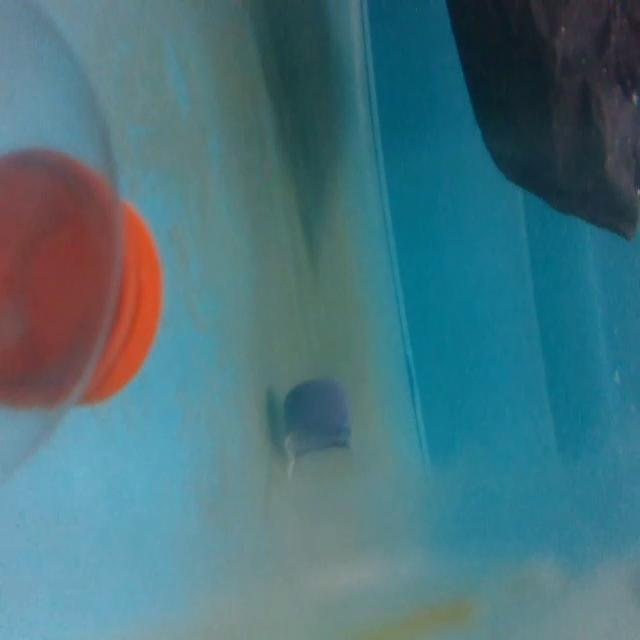plastic bags: (439, 0, 640, 244)
